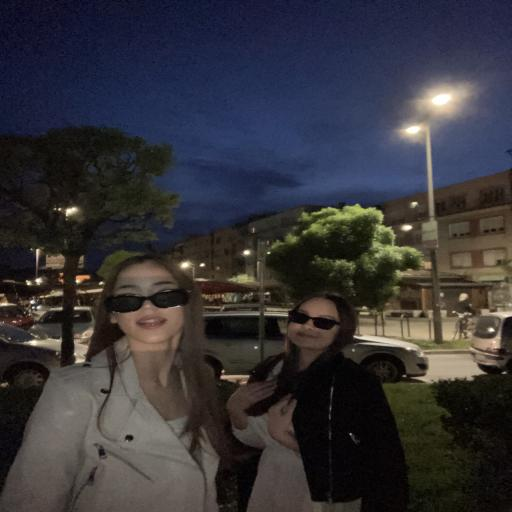marija: (289, 298, 343, 350)
masa: (114, 263, 186, 344)
